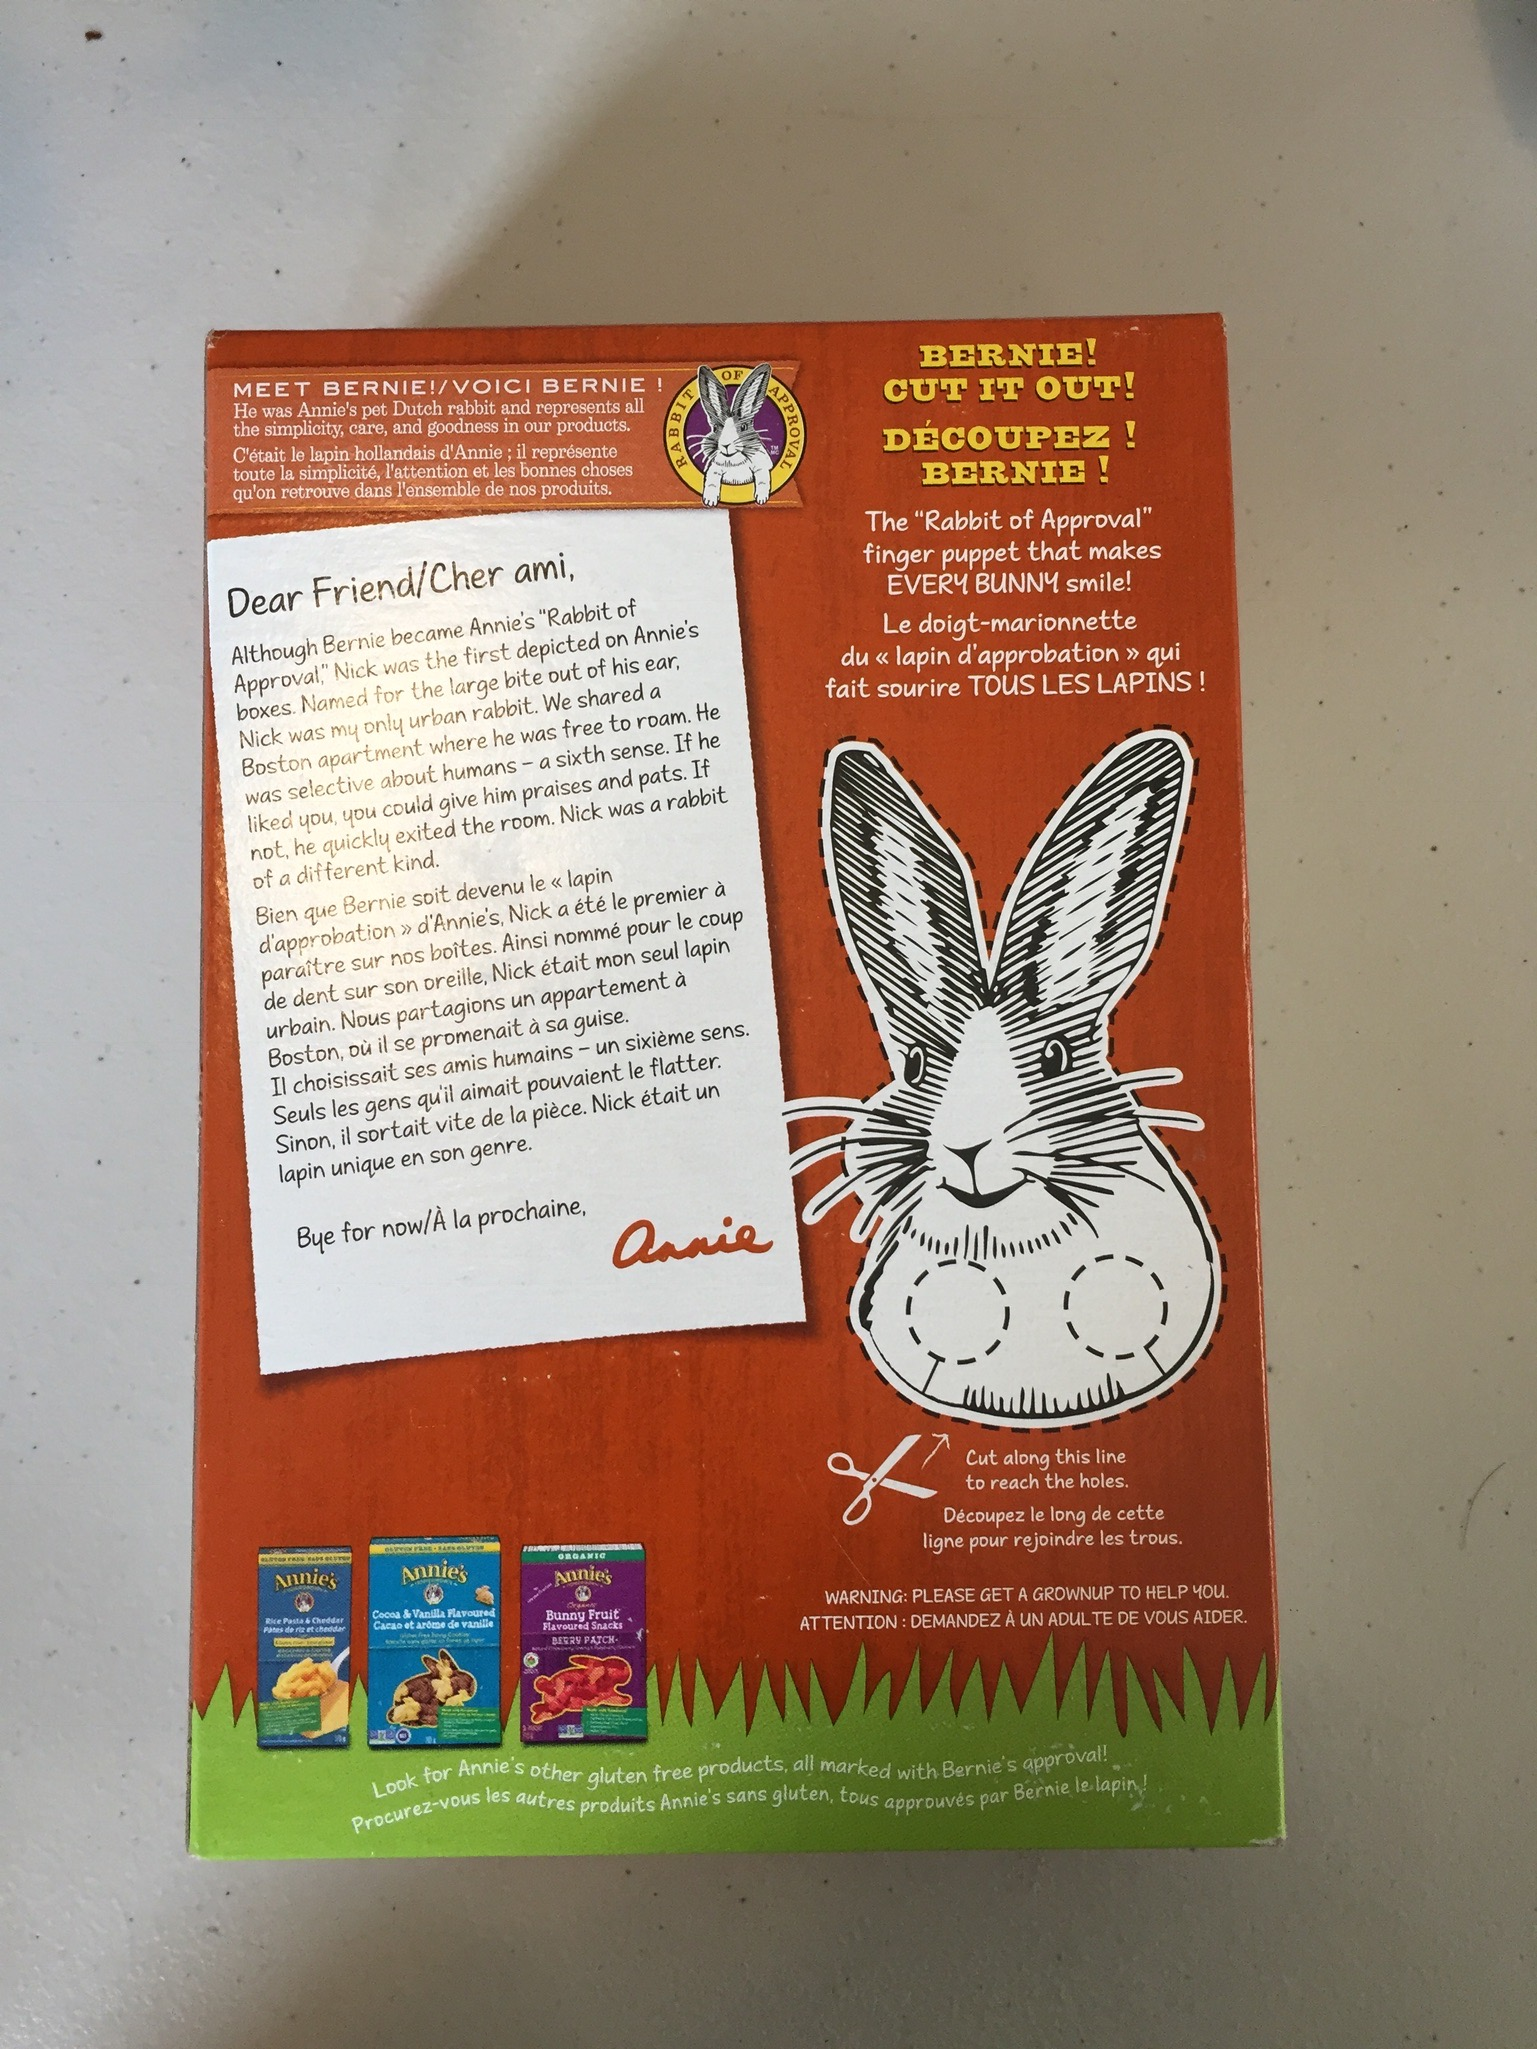annies_snickerdoodle_cinnamon_sugar: (213, 337, 1271, 1834)
